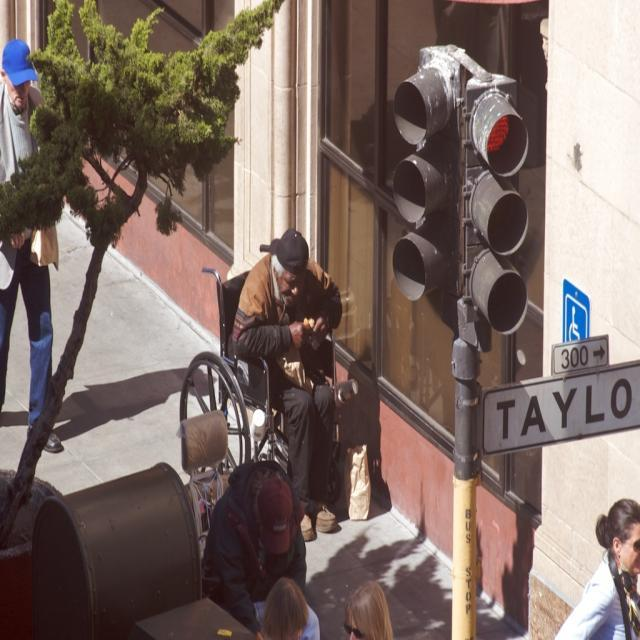off traffic light: (393, 55, 445, 304)
traffic light: (459, 78, 530, 334)
